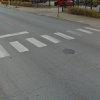Crosswalk: (2, 25, 95, 63)
